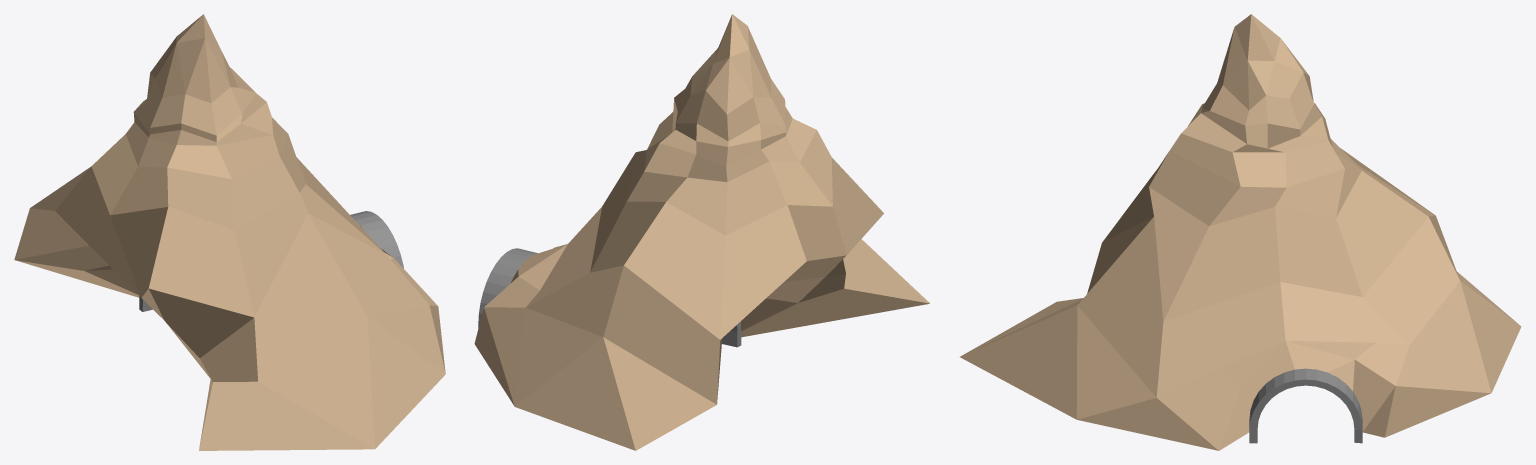
File: Mountain3.glb
The picture shows the model from 3 angles, left to right: view 1: azimuth 30°, elevation 25°; view 2: azimuth 150°, elevation 25°; view 3: azimuth 270°, elevation 25°; orthographic projection.
Visible parts, largest first — view 1: Icosphere.001; view 2: Icosphere.001; view 3: Icosphere.001.
Boxes of the visible parts, left/top/right/bottom form: Icosphere.001: left=14, top=14, right=445, bottom=450; Icosphere.001: left=474, top=14, right=929, bottom=450; Icosphere.001: left=960, top=14, right=1521, bottom=450.
Size of the model in its own units: 20.38 by 20.04 by 30.24.
